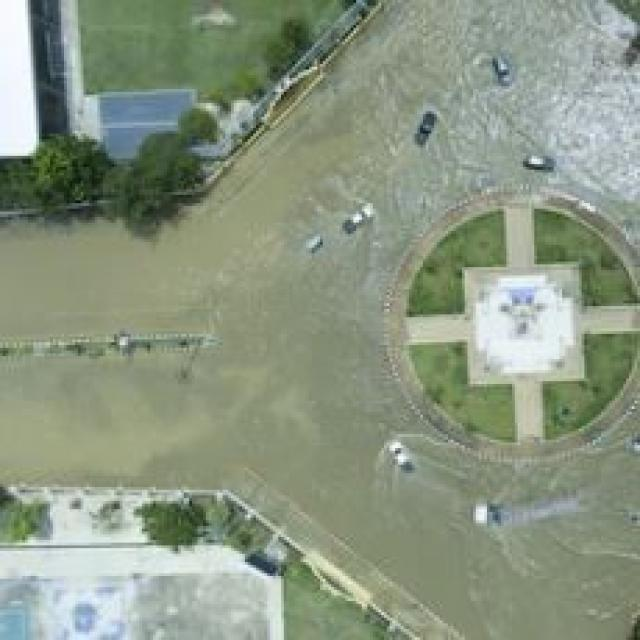flooded_areas: (239, 6, 626, 637), (0, 180, 417, 492)
